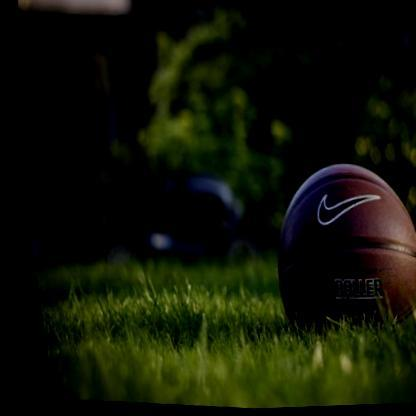basketball: (250, 154, 416, 354)
